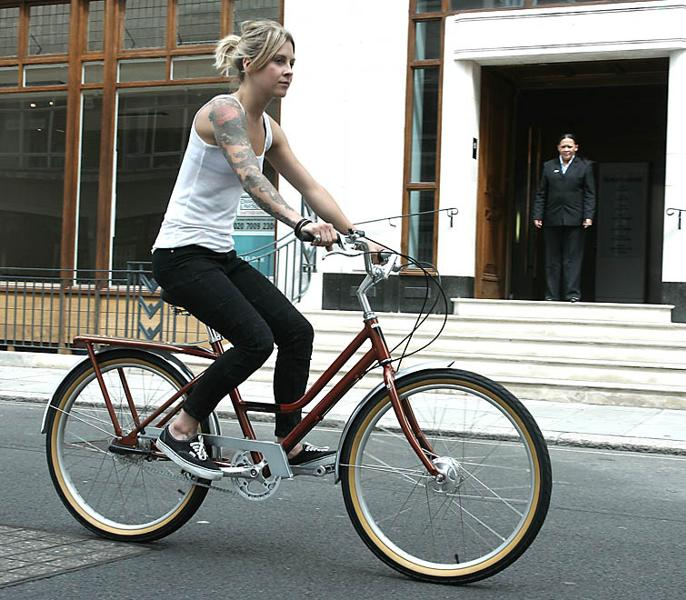person: (153, 19, 385, 487)
